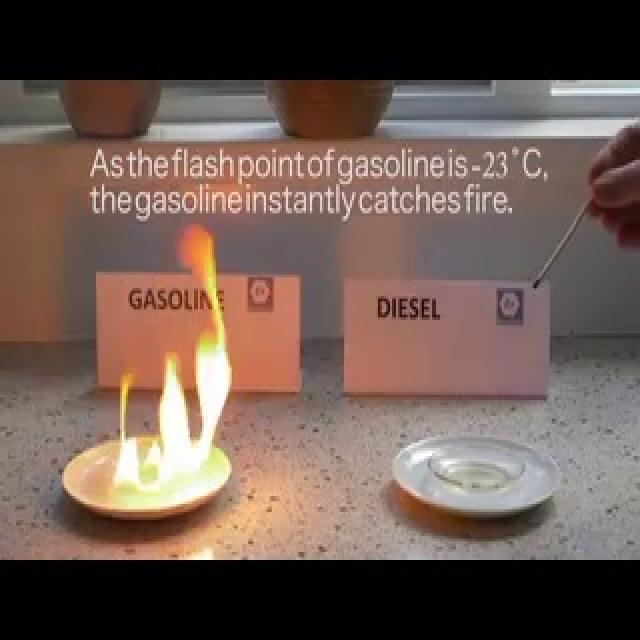fire: (113, 217, 238, 499)
